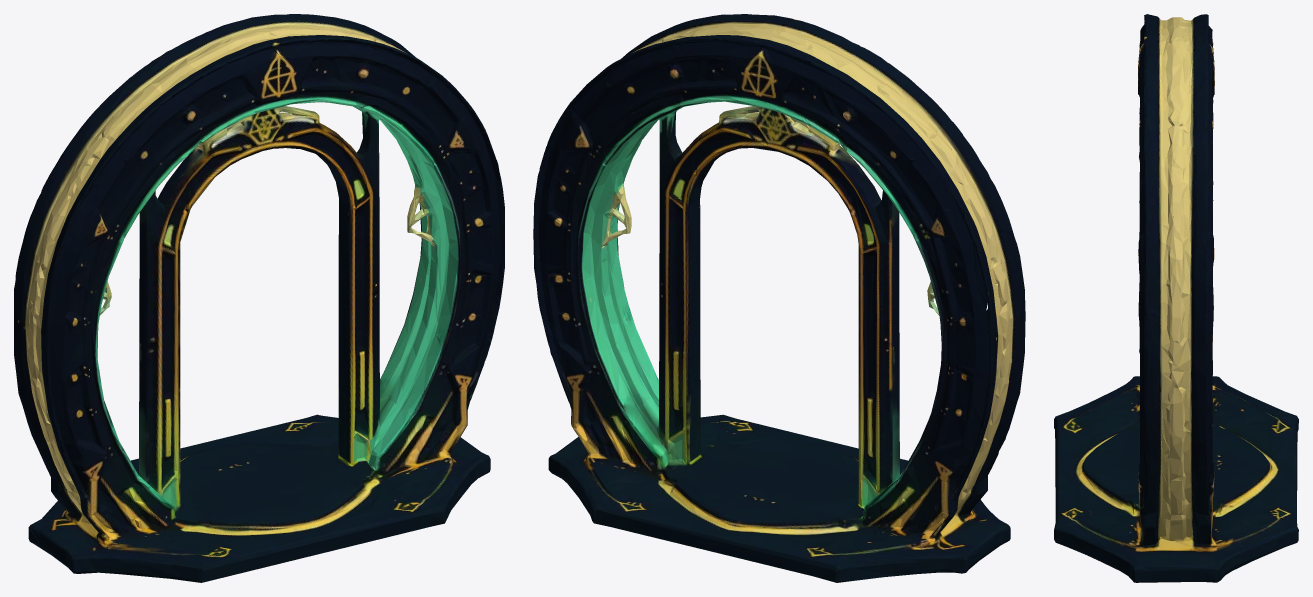
The model's file is hub-door.glb.
The picture shows the model from 3 angles, left to right: view 1: azimuth 30°, elevation 25°; view 2: azimuth 150°, elevation 25°; view 3: azimuth 270°, elevation 25°; orthographic projection. The views are drawn at different scales.
Visible parts, largest first — view 1: material; view 2: material; view 3: material.
Part boxes in pixels (x1,y1,x2,y2): material: (14, 14, 504, 582); material: (533, 14, 1025, 582); material: (1054, 14, 1298, 582).
Bounding box in the file's own units: 0.8946 × 0.8924 × 0.4361.
1 material, 1 textured.
